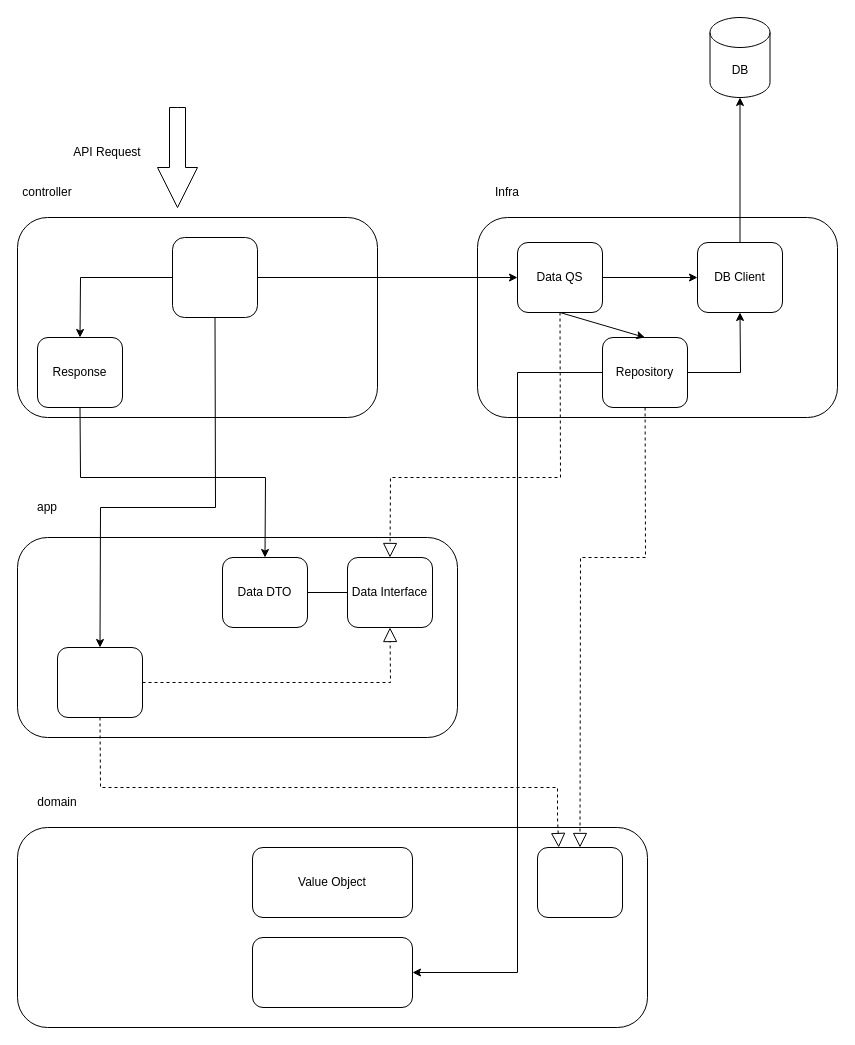
The diagram is 855 pixels wide and 1045 high, and some of its shapes have lost their labels. The centre of each missing label's shape, as x and y in pixels:
"API controller" belongs at (215,277).
"Entity" belongs at (332,972).
"Repository Interface" belongs at (579,882).
"UserCase" belongs at (99,682).
